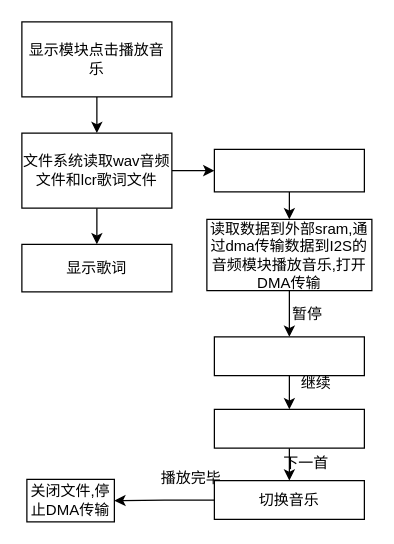
This 394x544 diagram has some shape labels left out. The shapes that lost their labels are listed below. From the top down, each one's centre as x and y in pixels, then its label:
At point (288, 170): "解析wav文件".
At point (288, 356): "暂停播放".
At point (288, 428): "继续播放".
